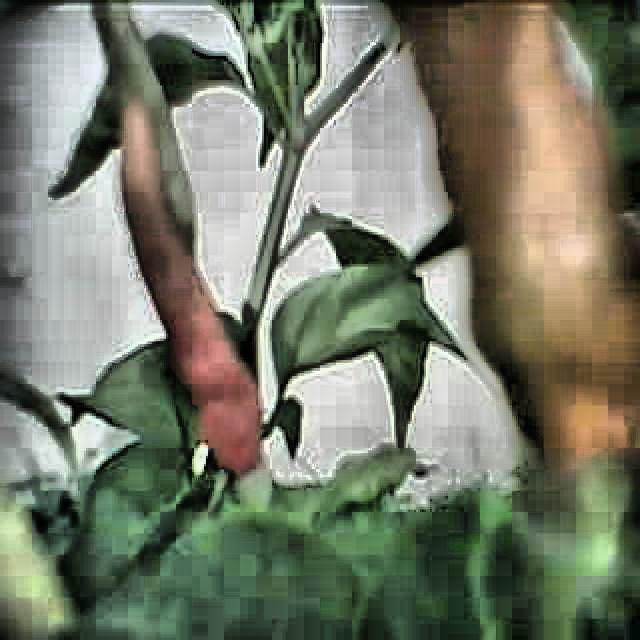Cabai: (383, 0, 640, 481), (121, 108, 268, 493), (86, 0, 178, 102)
